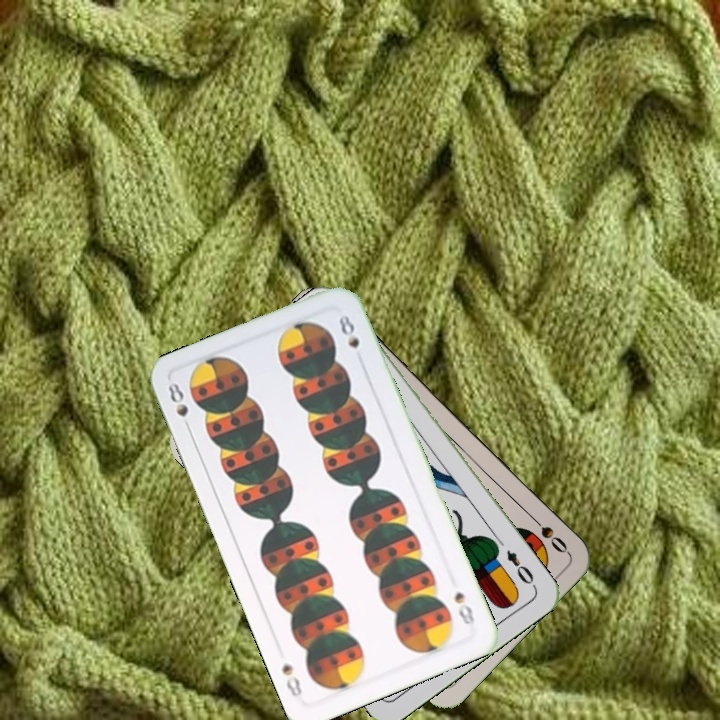EO: (502, 545, 537, 587)
S8: (164, 378, 195, 435), (450, 587, 478, 629)
SO: (524, 509, 571, 556)
